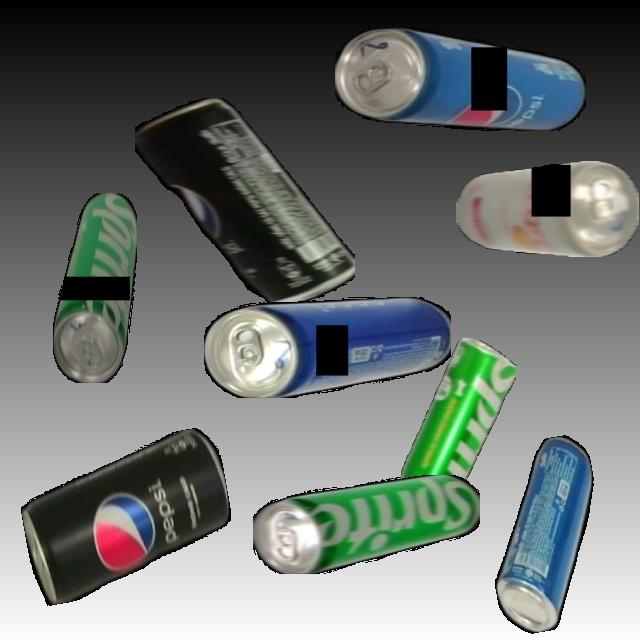debris: (134, 98, 355, 305), (13, 425, 241, 607), (472, 432, 618, 638), (335, 26, 586, 131), (204, 296, 451, 398), (253, 474, 480, 574), (398, 337, 518, 505), (455, 161, 639, 257), (52, 192, 137, 383)
